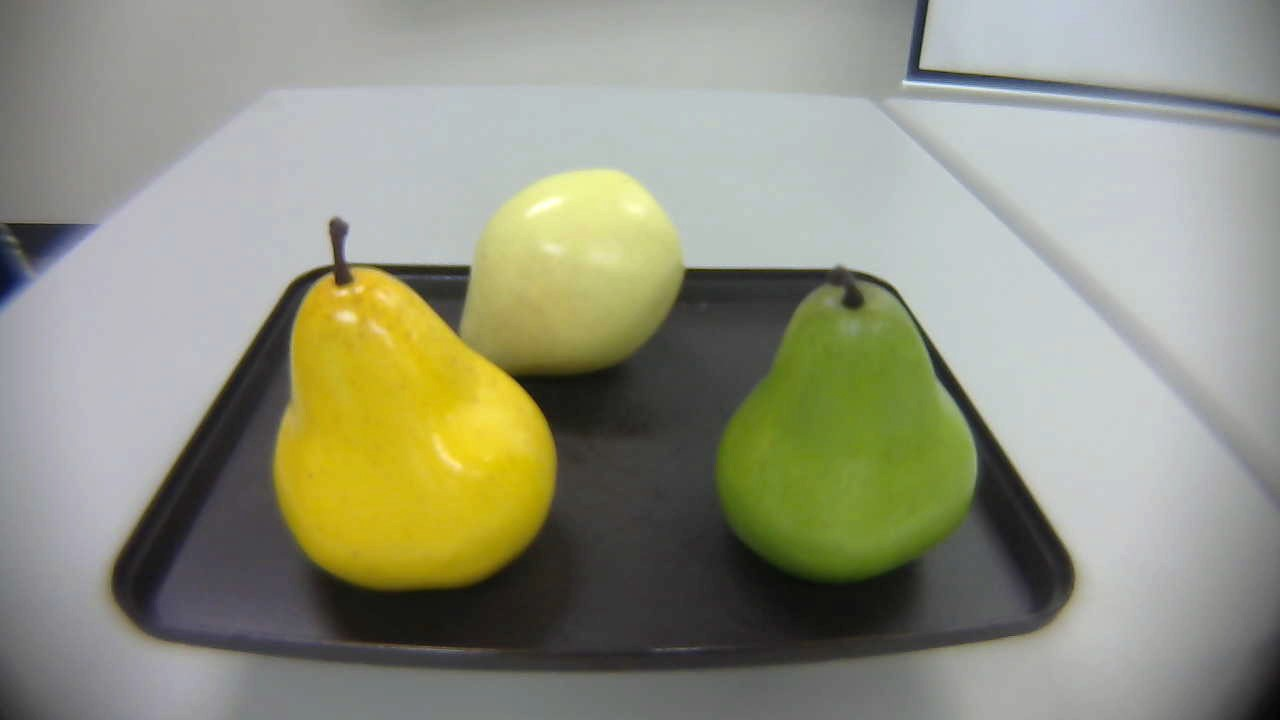green pear: (701, 261, 978, 588)
western pear: (441, 159, 696, 414)
yellow pear: (267, 216, 559, 588)
